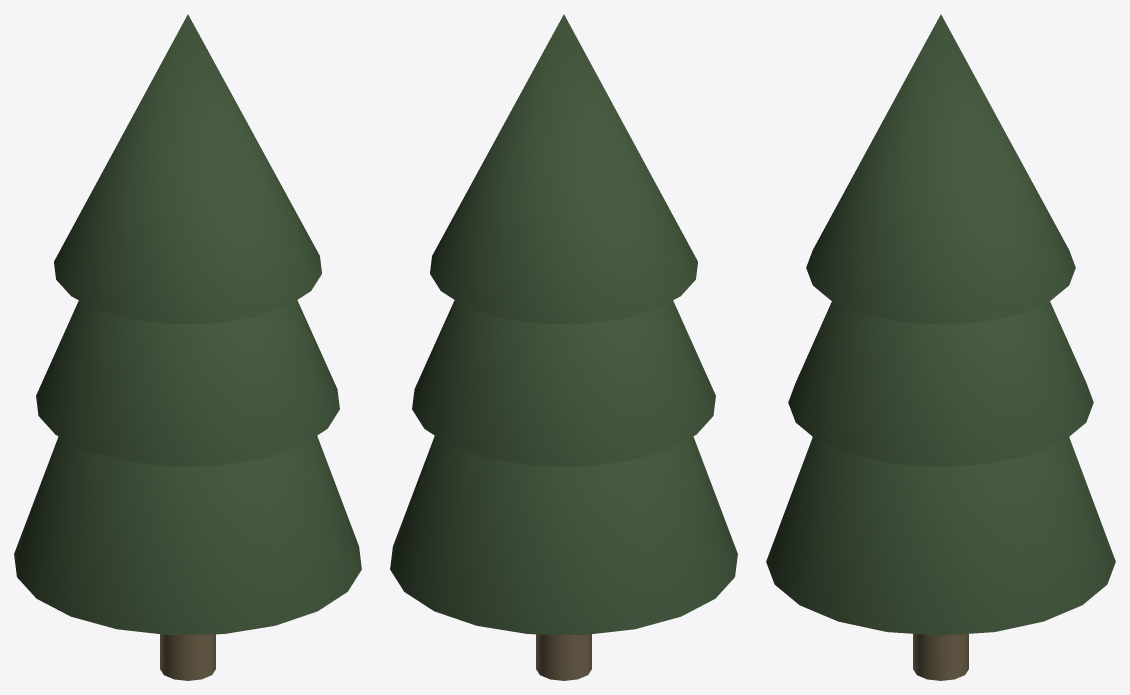
The model's file is sapin01.fbx.
3 renders of one model, left to right at view 1: azimuth 30°, elevation 25°; view 2: azimuth 150°, elevation 25°; view 3: azimuth 270°, elevation 25°, orthographic.
Visible parts, largest first — view 1: sapin; view 2: sapin; view 3: sapin.
Boxes of the visible parts, <box> form: sapin: <box>14,14,361,680</box>; sapin: <box>390,14,737,680</box>; sapin: <box>766,14,1115,680</box>.
Size of the model in its own units: 8.77 by 18.13 by 8.77.
